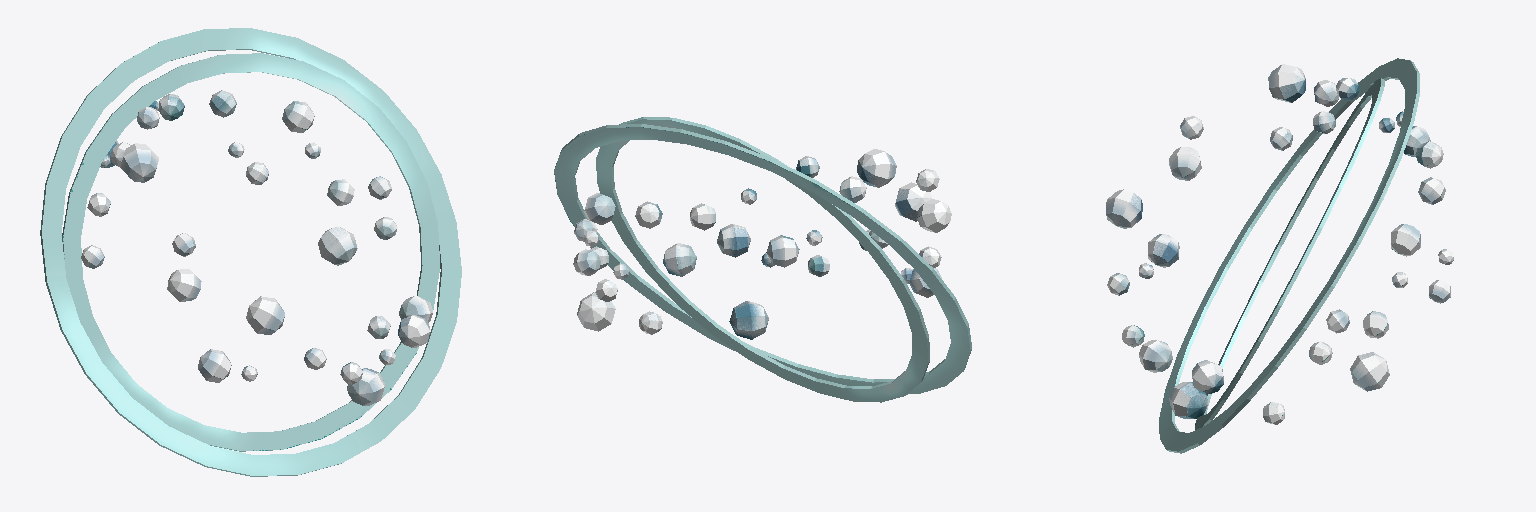
The picture shows the model from 3 angles: view 1: azimuth 30°, elevation 25°; view 2: azimuth 150°, elevation 25°; view 3: azimuth 270°, elevation 25°; orthographic projection.
Visible parts, largest first — view 1: f; view 2: f; view 3: f.
Boxes of the visible parts, box(x1,y1,x2,y2) form: f: box(40, 28, 461, 476); f: box(554, 117, 971, 402); f: box(1106, 58, 1453, 453).
Bounding box in the file's own units: 10418 × 8661 × 7910.
1 materials, 1 textured.